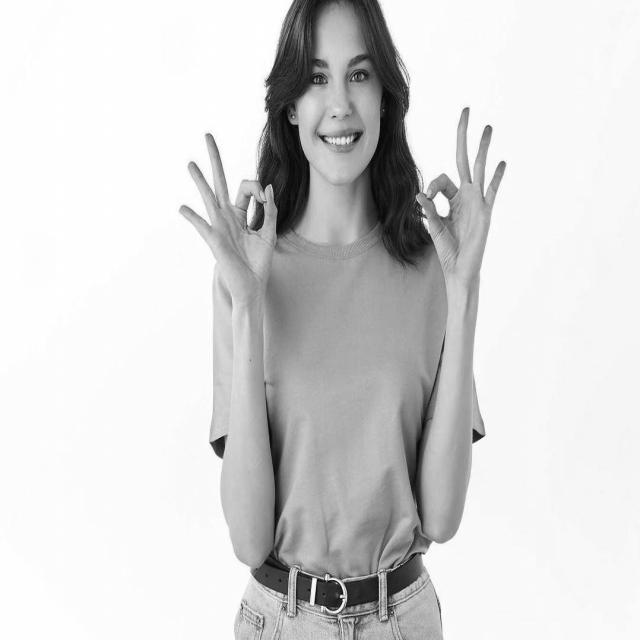perfect: (174, 124, 281, 312), (413, 99, 510, 298)
